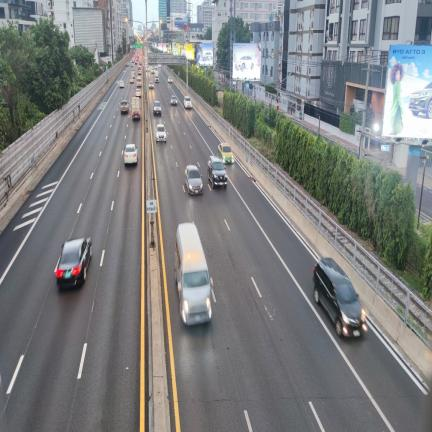car: (313, 257, 367, 336), (56, 238, 91, 289), (208, 155, 227, 188), (185, 165, 203, 194), (124, 144, 137, 164), (156, 124, 166, 142), (153, 101, 161, 115), (184, 96, 192, 108), (170, 95, 177, 105), (135, 88, 141, 97), (149, 81, 154, 88), (119, 81, 124, 87), (130, 77, 134, 83), (168, 77, 172, 83)
pickup: (120, 101, 129, 113)
taxi: (218, 142, 233, 163)
truck: (131, 98, 141, 119), (155, 70, 158, 82)
van: (175, 223, 213, 324), (137, 76, 141, 86)
